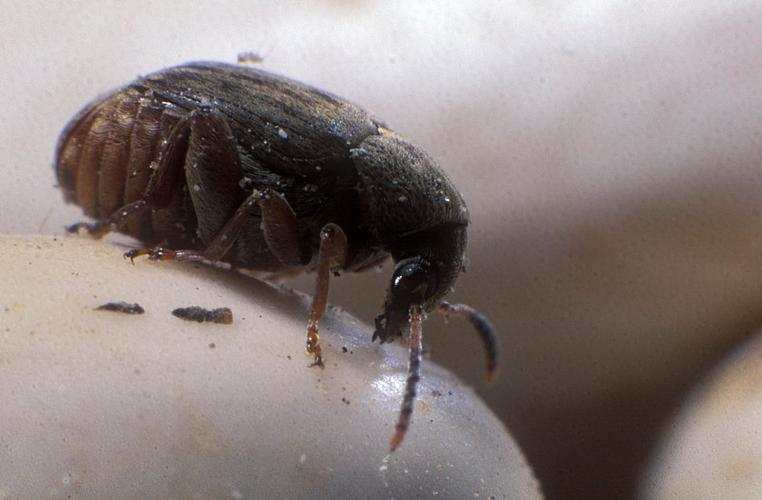Curculionidae: (53, 57, 502, 453)
